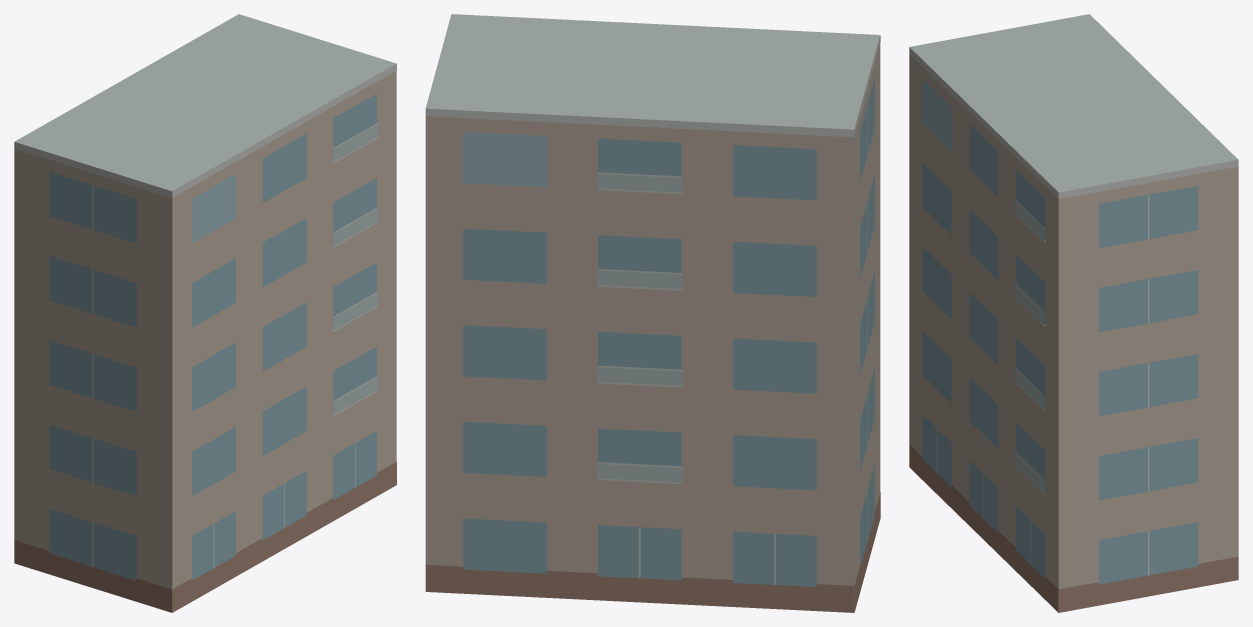
Rendered from residential-f5be9860-64c0-496a-badd-2d6a14d12dc9.glb.
3 views of the same model, side by side, from view 1: azimuth 30°, elevation 25°; view 2: azimuth 150°, elevation 25°; view 3: azimuth 270°, elevation 25° (orthographic). The views are drawn at different scales.
Parts seen in each view (by area): view 1: residential-f5be9860-64c0-496a-badd-2d6a14d12dc9.tmp; view 2: residential-f5be9860-64c0-496a-badd-2d6a14d12dc9.tmp; view 3: residential-f5be9860-64c0-496a-badd-2d6a14d12dc9.tmp.
Boxes of the visible parts, box(x1,y1,x2,y2) form: residential-f5be9860-64c0-496a-badd-2d6a14d12dc9.tmp: box(14, 14, 396, 612); residential-f5be9860-64c0-496a-badd-2d6a14d12dc9.tmp: box(425, 14, 880, 612); residential-f5be9860-64c0-496a-badd-2d6a14d12dc9.tmp: box(909, 14, 1238, 612).
Size of the model in its own units: 13.91 by 15.25 by 10.83.
